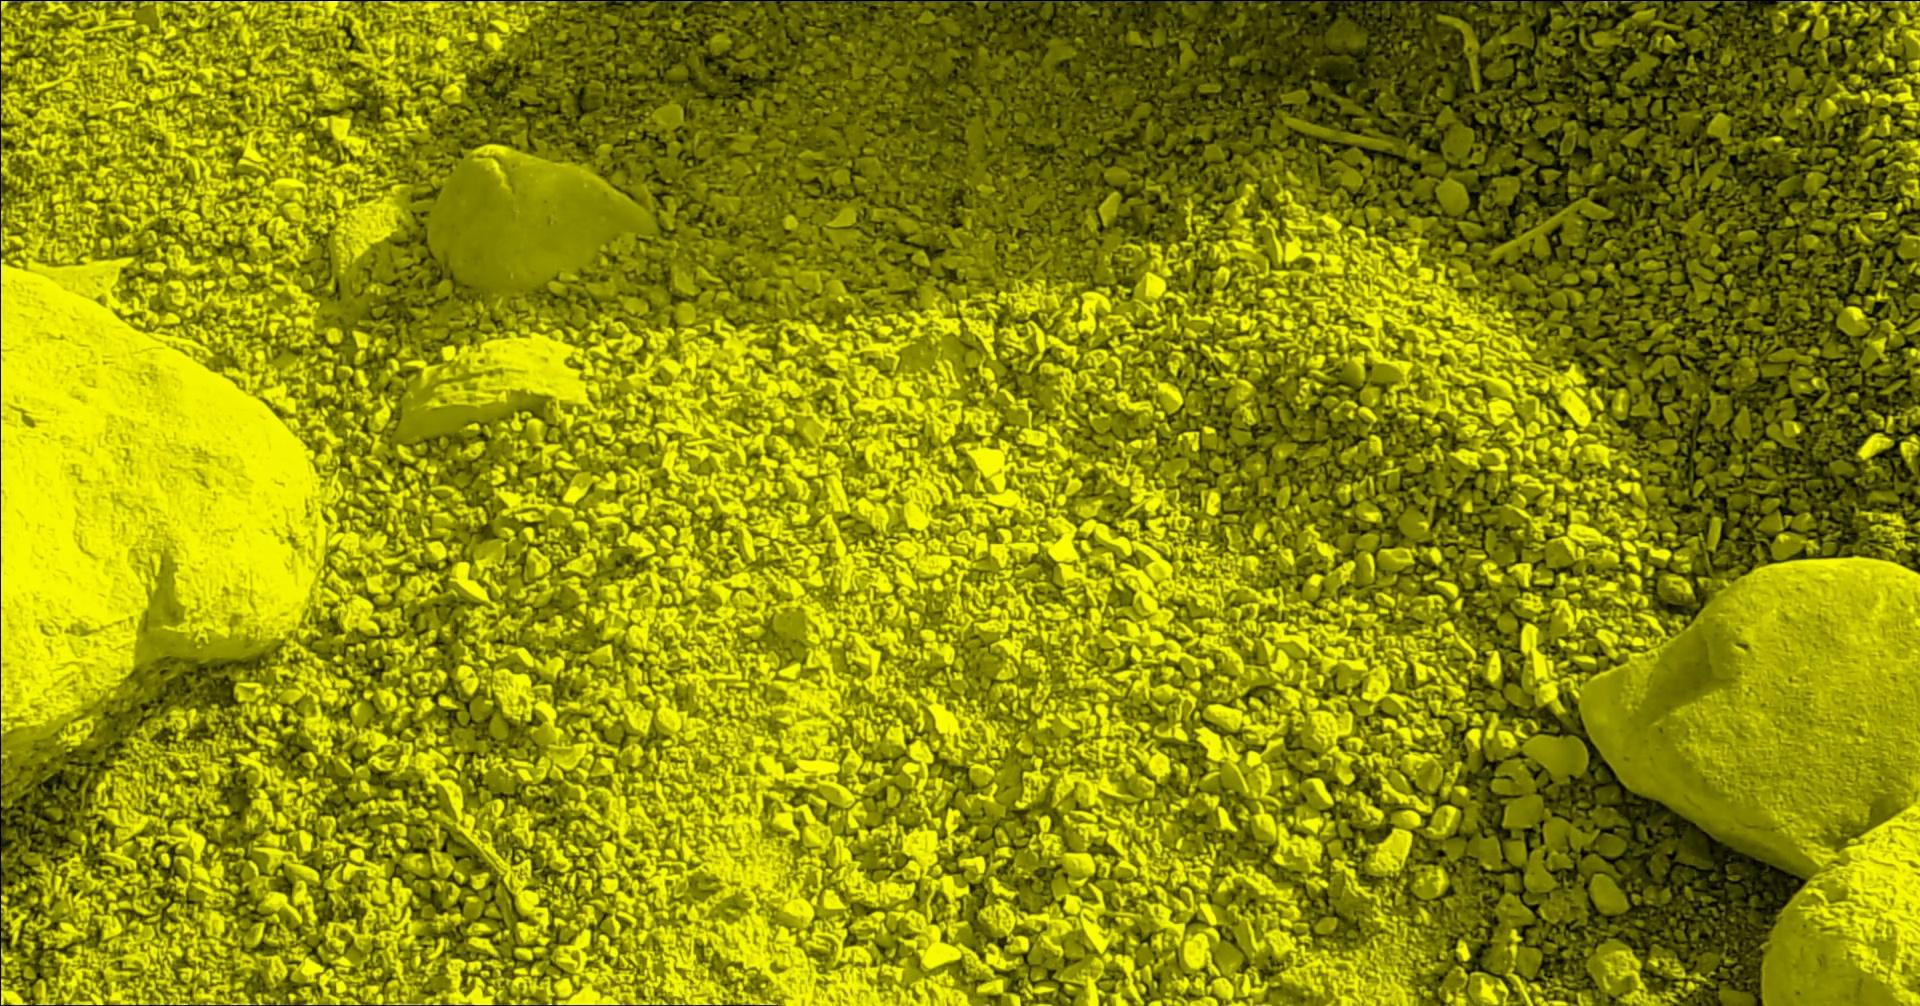ant: (782, 0, 974, 3), (987, 0, 1087, 3), (1684, 0, 1749, 3)
